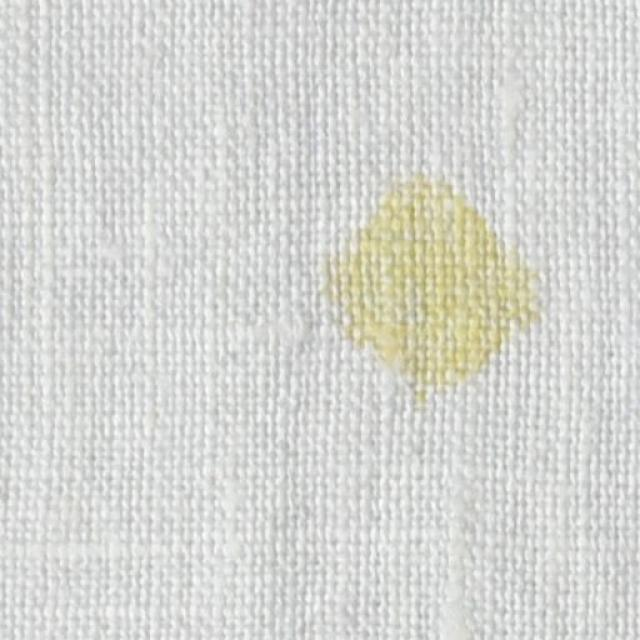Stain: (309, 174, 541, 386)
